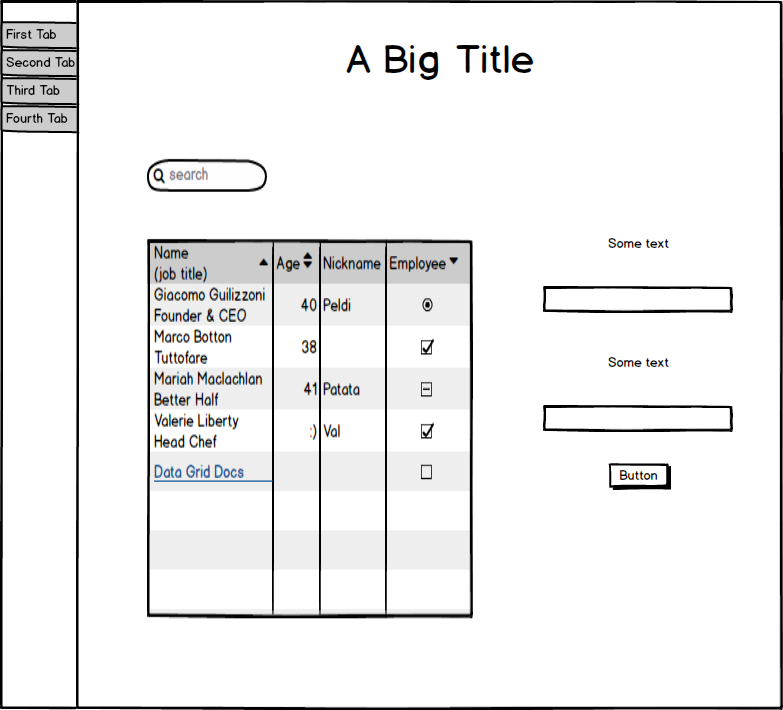button: (603, 458, 677, 495)
h1: (334, 36, 545, 85)
input: (535, 279, 739, 317), (537, 400, 736, 436)
label: (596, 229, 677, 254), (602, 350, 680, 373)
search: (139, 152, 272, 197)
sidebar: (3, 15, 85, 142)
table: (139, 231, 479, 625)
